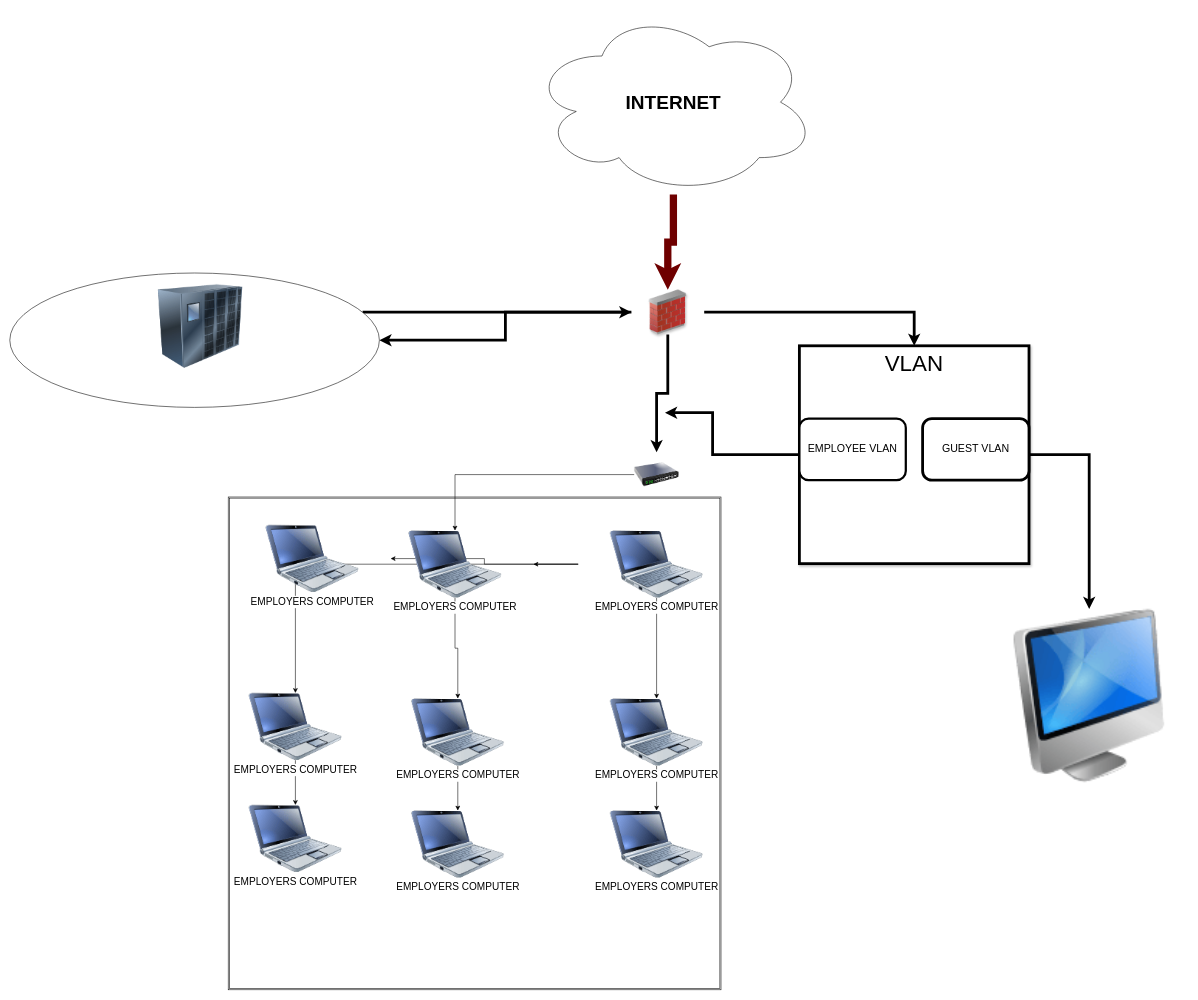
The diagram is 1198 pixels wide and 1000 high, and some of its shapes have lost their labels. Here are the shapes that lost their labels. From the top down, the centre of each, then its label:
point 200,326: DMZ WEB SERVER
point 668,312: FIREWALL🔥
point 1089,695: GUEST USER
